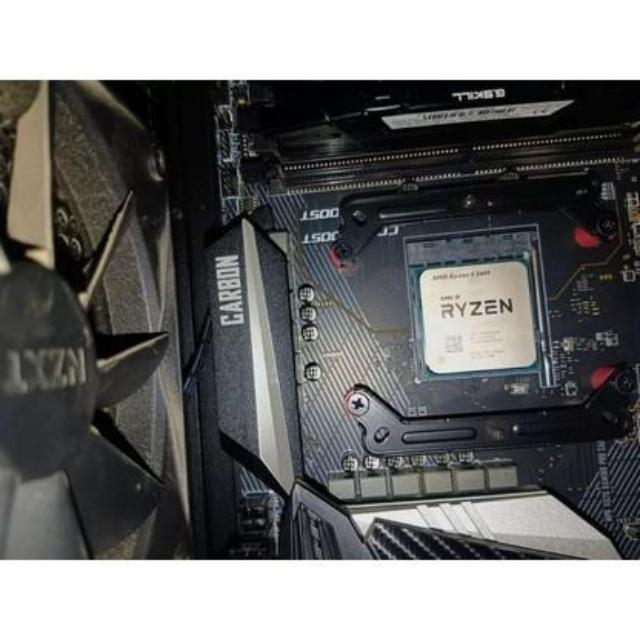CPU: (423, 268, 537, 377)
